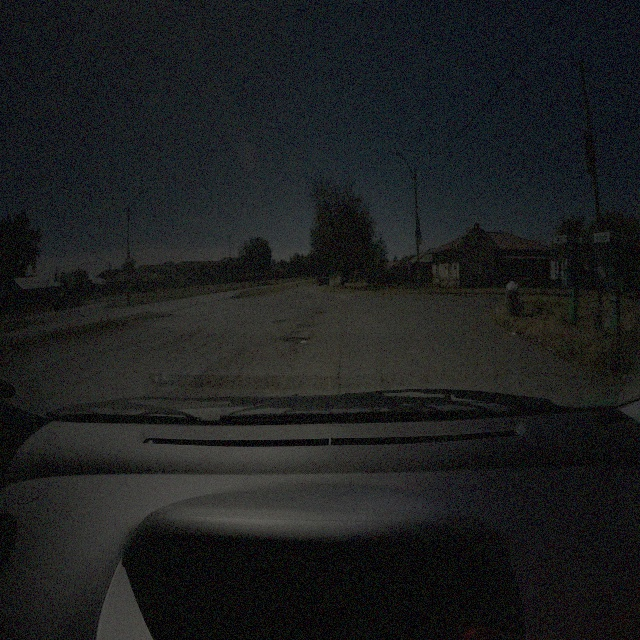pothole: (285, 334, 310, 344), (272, 315, 291, 327)
